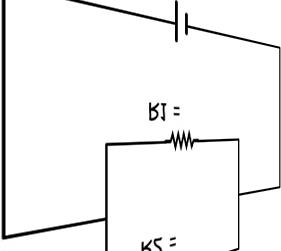resistor: (159, 126, 206, 153)
